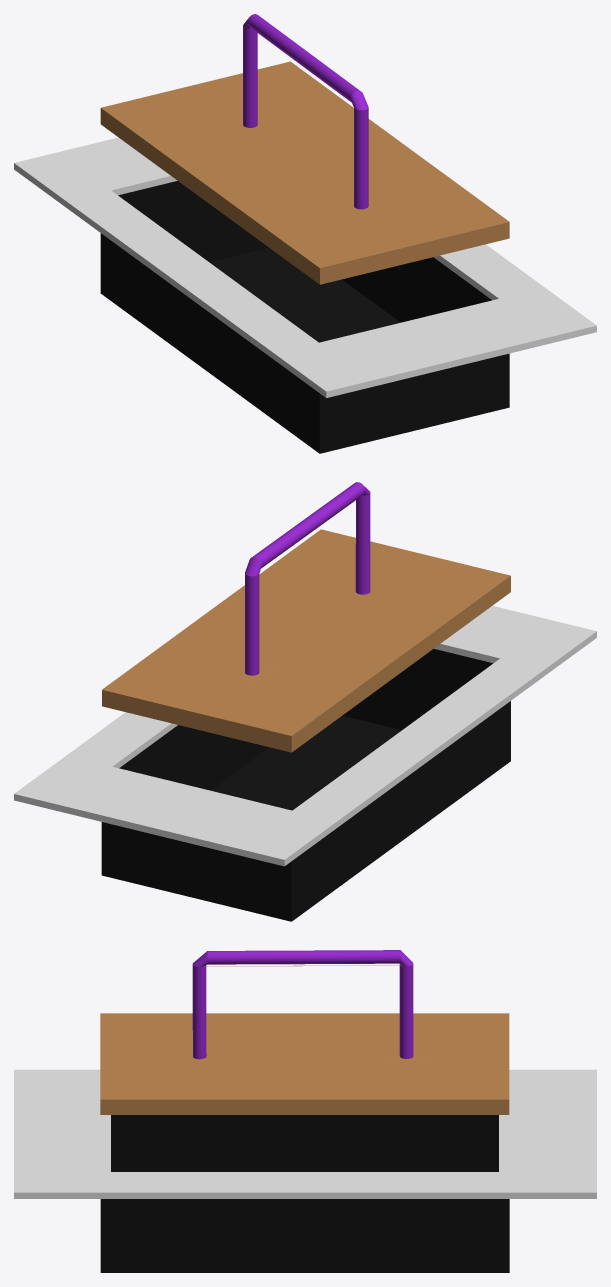
The model's file is dropper_box.dae.
The picture shows the model from 3 angles, top to bottom: view 1: azimuth 30°, elevation 25°; view 2: azimuth 150°, elevation 25°; view 3: azimuth 270°, elevation 25°; orthographic projection. The views are drawn at different scales.
Parts seen in each view (by area): view 1: Cube, Cube_001; view 2: Cube, Cube_001; view 3: Cube, Cube_001.
Boxes of the visible parts, left/top/right/bottom form: Cube: left=14, top=137, right=596, bottom=453; Cube_001: left=100, top=14, right=509, bottom=284; Cube: left=14, top=606, right=596, bottom=921; Cube_001: left=102, top=482, right=510, bottom=752; Cube: left=14, top=1069, right=596, bottom=1272; Cube_001: left=100, top=950, right=509, bottom=1114.
Size of the model in its own units: 0.4275 by 0.8551 by 0.4513.
